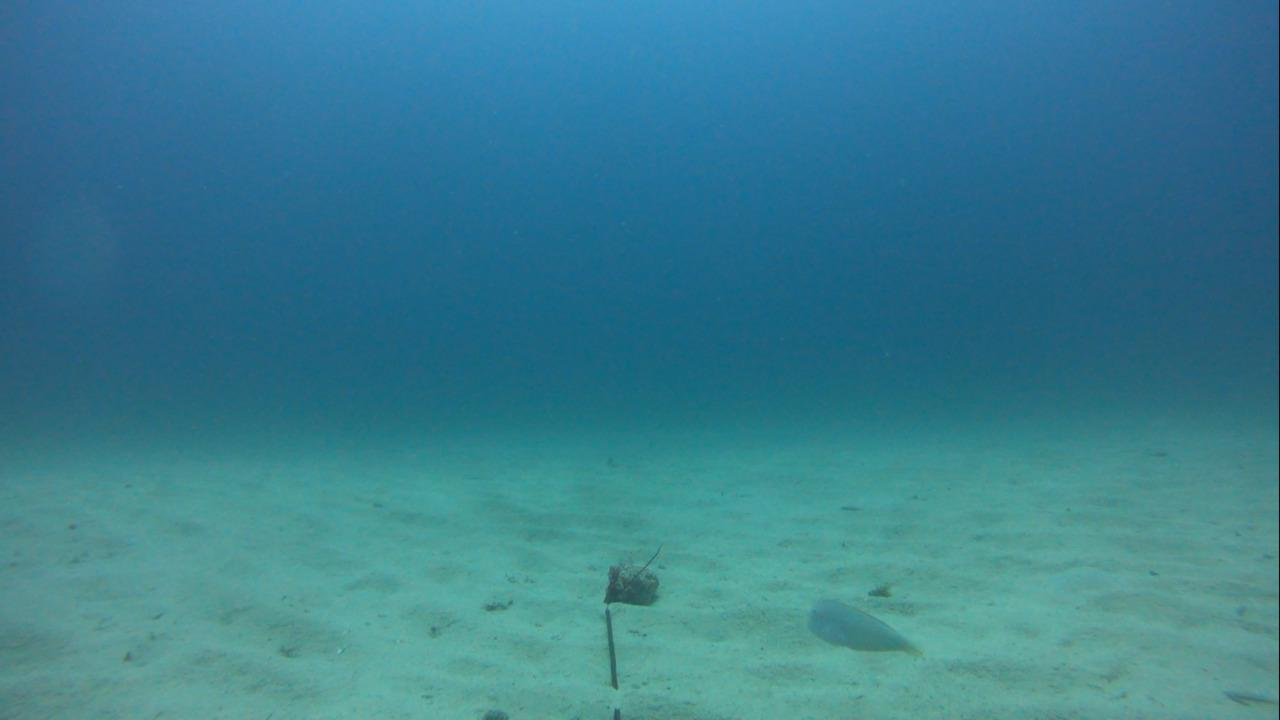raor: (798, 589, 923, 656)
